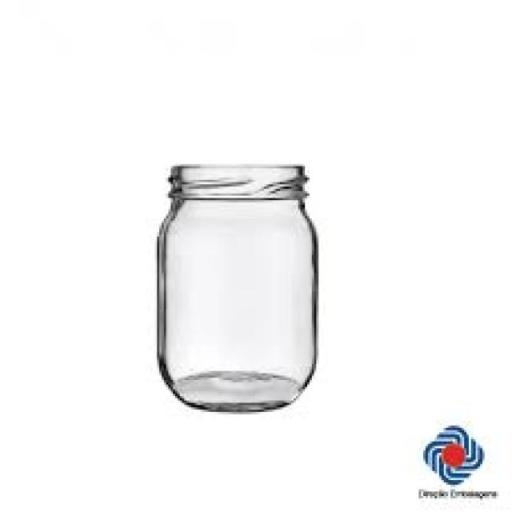glass: (136, 144, 334, 430)
